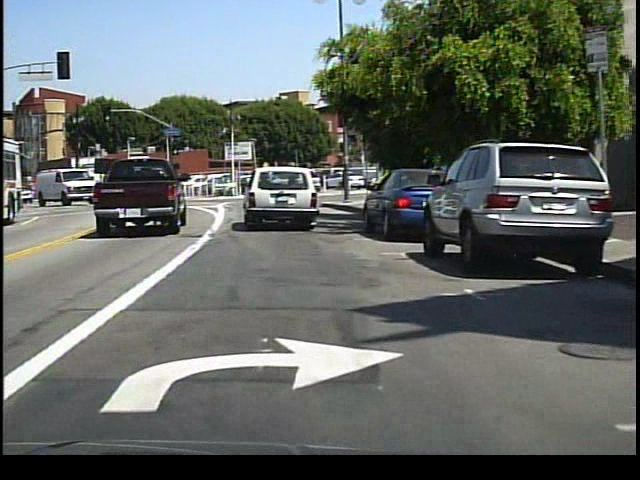person: (338, 169, 352, 199)
